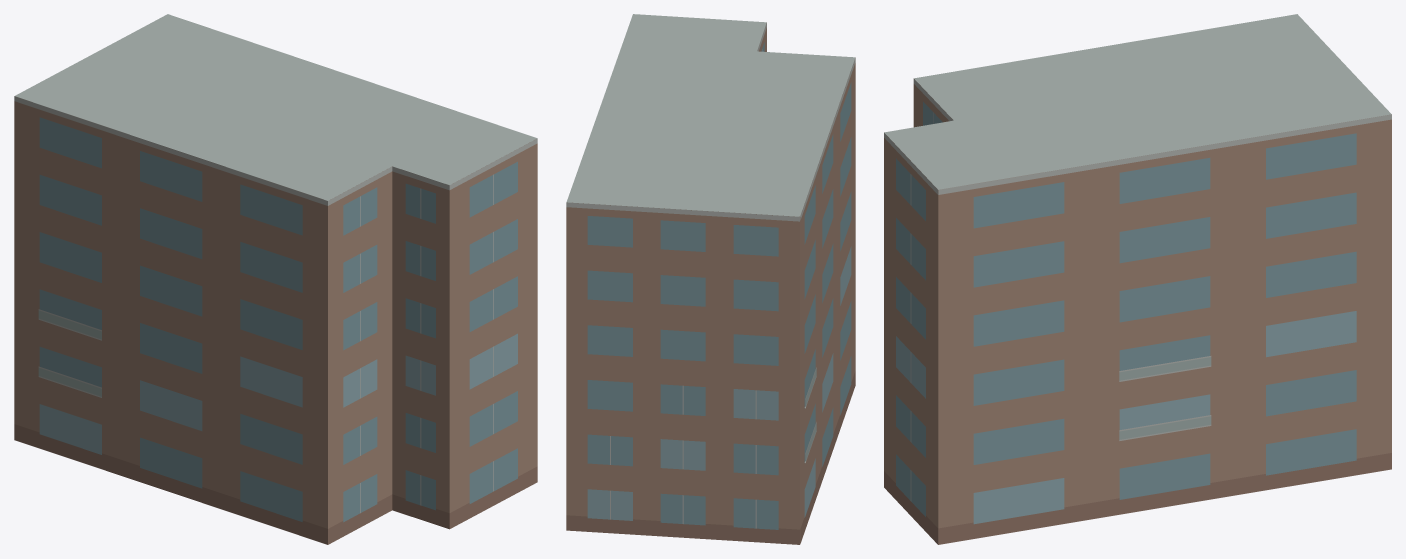
File: survey-upis-32854444.glb
The picture shows the model from 3 angles, left to right: view 1: azimuth 30°, elevation 25°; view 2: azimuth 150°, elevation 25°; view 3: azimuth 270°, elevation 25°; orthographic projection. The views are drawn at different scales.
Visible parts, largest first — view 1: survey-upis-32854444.tmp; view 2: survey-upis-32854444.tmp; view 3: survey-upis-32854444.tmp.
Boxes of the visible parts, x1=… form: survey-upis-32854444.tmp: x1=14, y1=14, x2=537, y2=544; survey-upis-32854444.tmp: x1=566, y1=14, x2=855, y2=544; survey-upis-32854444.tmp: x1=884, y1=14, x2=1391, y2=544.
Size of the model in its own units: 17.75 by 16.7 by 21.66.
